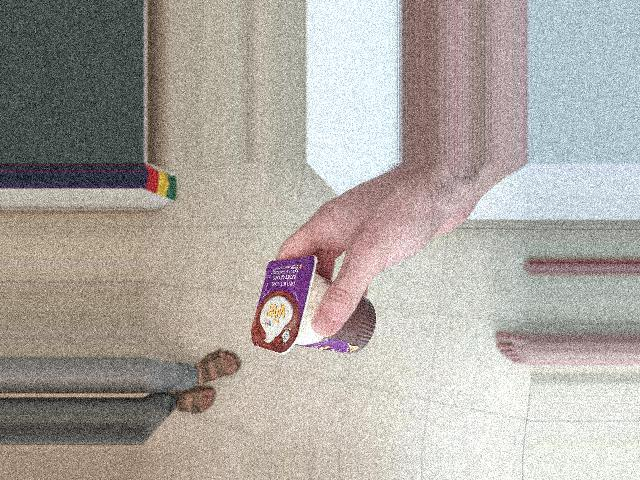milky: (246, 276, 334, 400)
